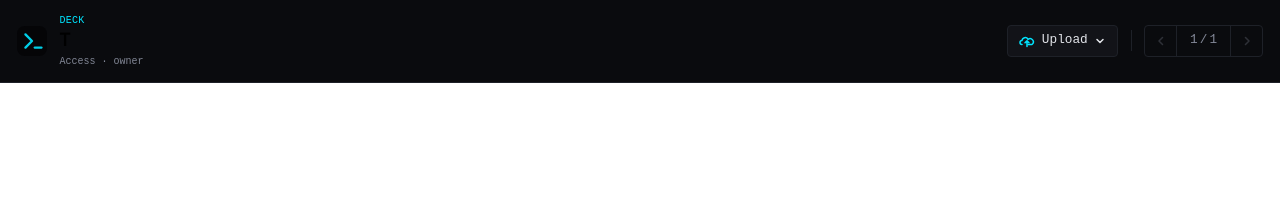
PresentationDeckHeader › groups upload actions into one top-bar control
Click the button "Upload".
click(1062, 41)  # box [1007, 25, 1118, 57]
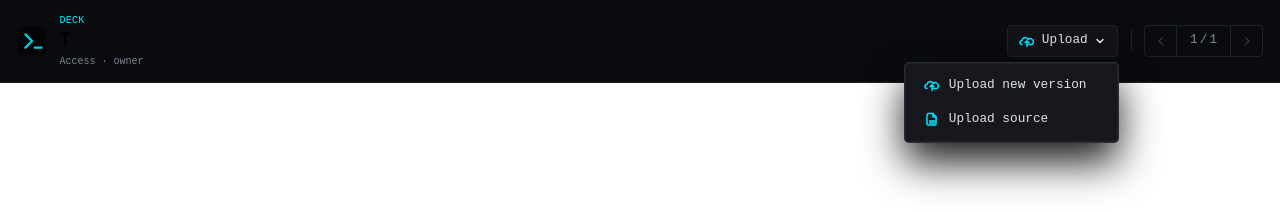
Check: the menu item "Upload new version" is shown, box [910, 68, 1112, 102]
Check: the menu item "Upload source" is shown, box [910, 102, 1112, 136]
